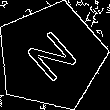N_SE: (18, 25, 83, 89)
